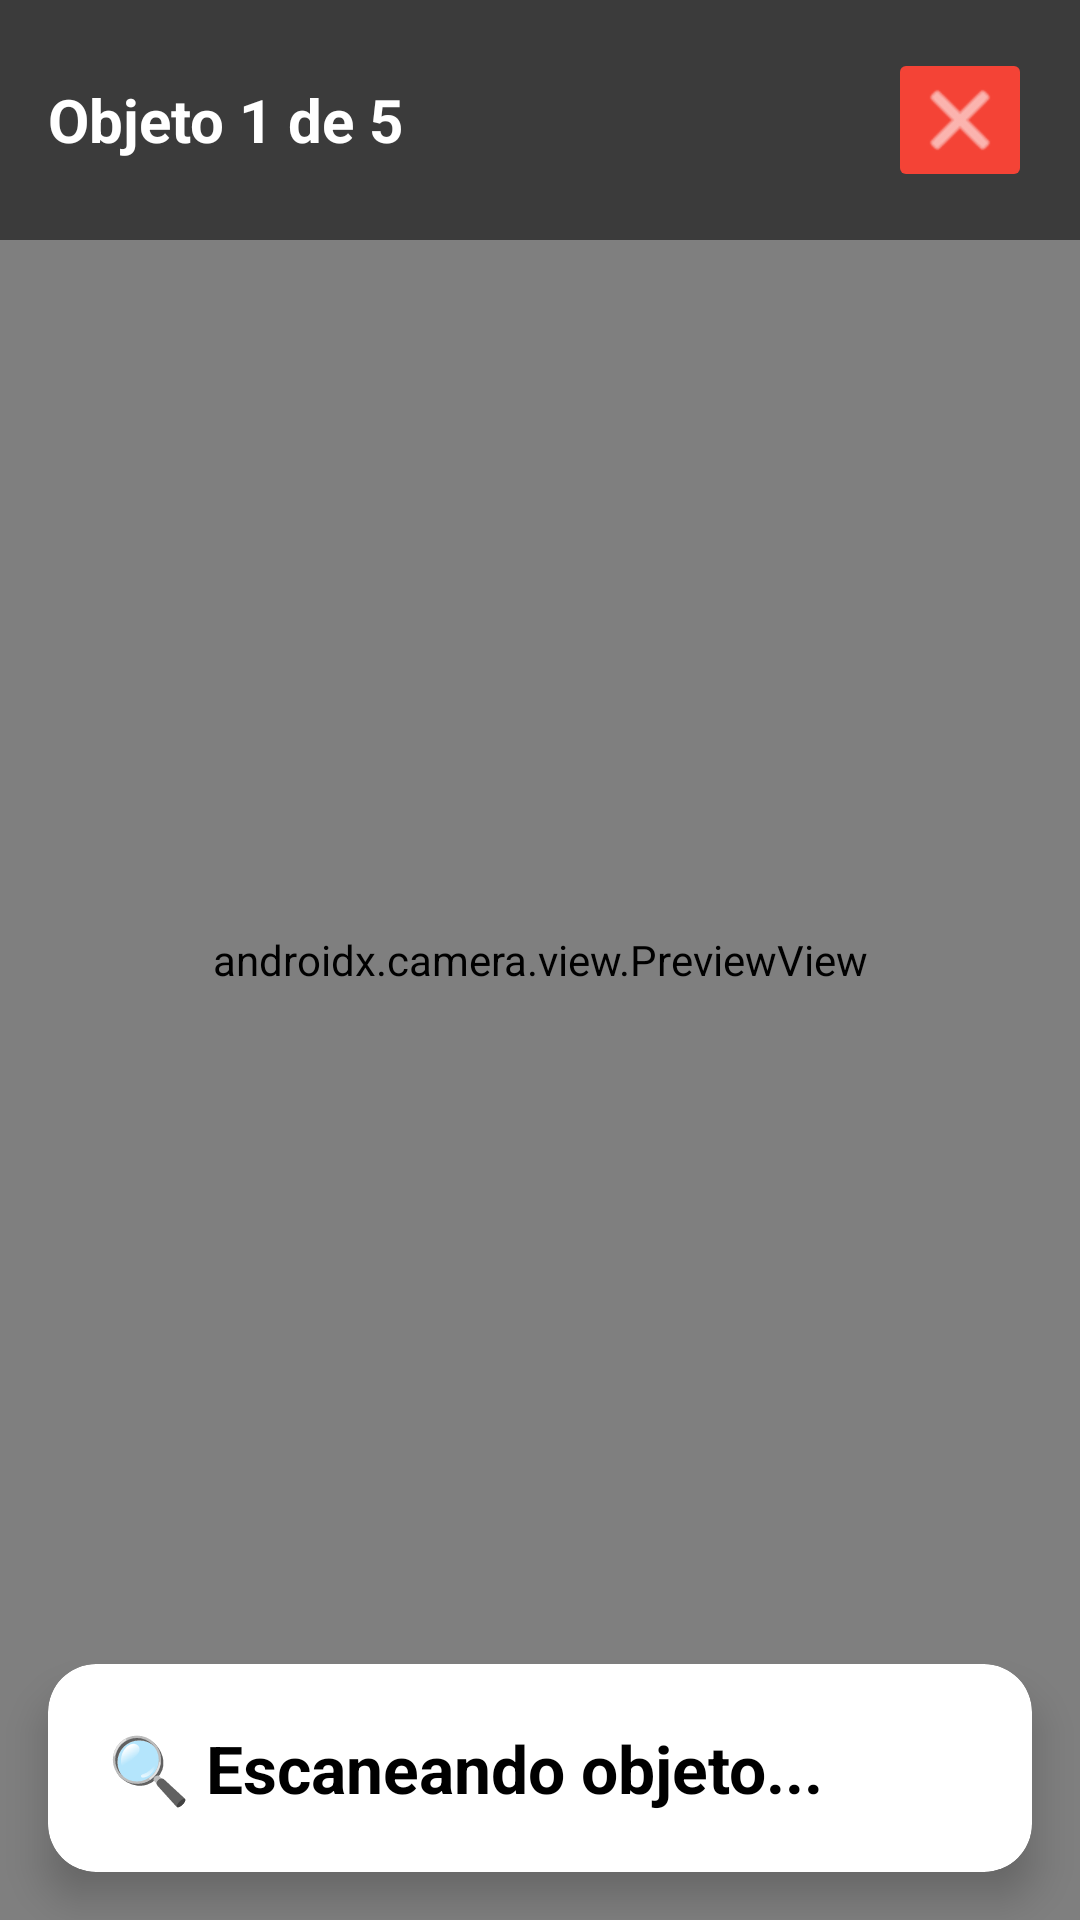

Icon click points for this 1080*1920 phone screenshot, format [x,y]:
close clear cancel: [960,120]
